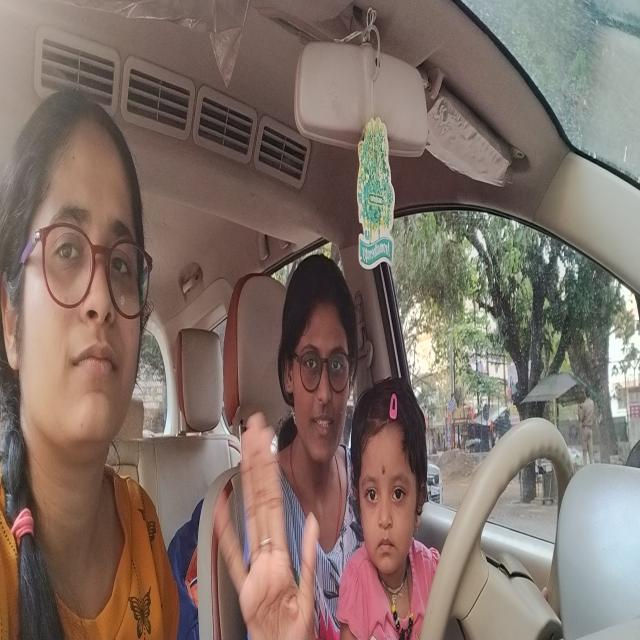child: (357, 392, 423, 579)
person: (12, 122, 146, 458), (287, 260, 352, 469)
